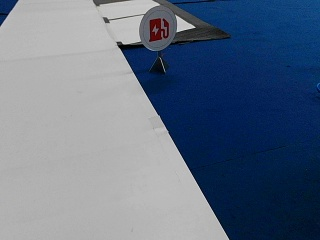battery: (139, 4, 177, 50)
